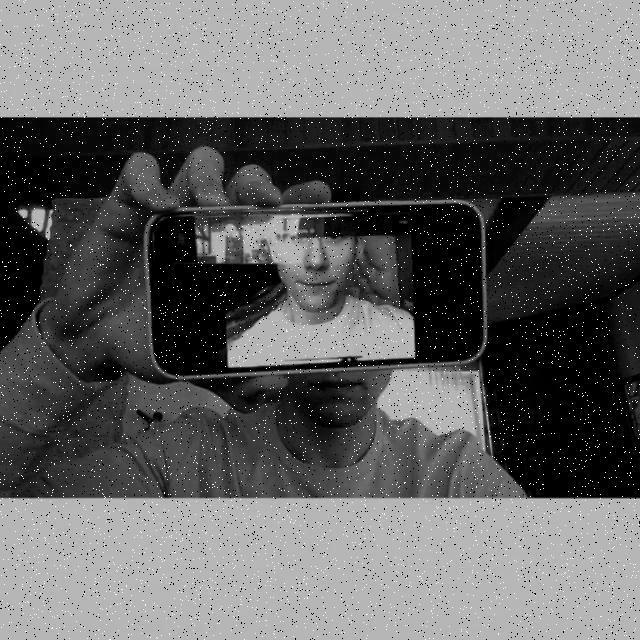fake: (146, 201, 489, 371)
